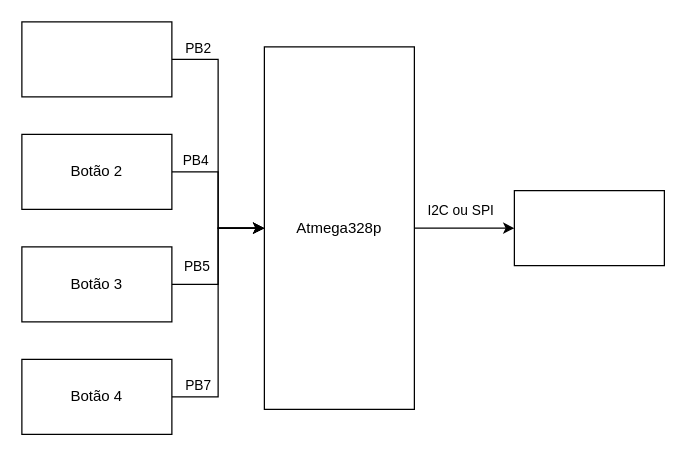
This 686x456 diagram has some shape labels left out. The centre of each missing label's shape, as x and y in pixels:
Botão 1: (x=96, y=59)
Display OLED: (x=588, y=227)
